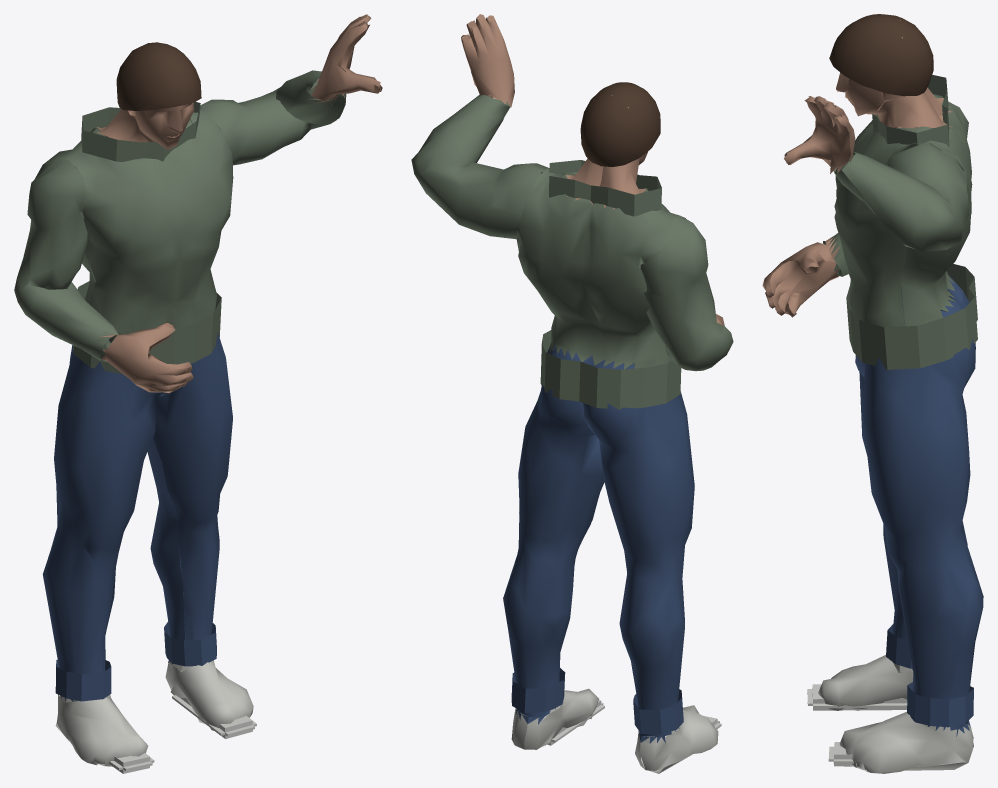
Rendered from driver-standing.glb.
3 renders of one model, left to right at view 1: azimuth 30°, elevation 25°; view 2: azimuth 150°, elevation 25°; view 3: azimuth 270°, elevation 25°, orthographic. The views are drawn at different scales.
Visible parts, largest first — view 1: driver-standing; view 2: driver-standing; view 3: driver-standing.
Part boxes in pixels (left/top/right/bottom): driver-standing: left=14, top=14, right=382, bottom=773; driver-standing: left=411, top=14, right=733, bottom=773; driver-standing: left=762, top=14, right=983, bottom=773.
Size of the model in its own units: 0.8716 by 1.8 by 0.4943.
